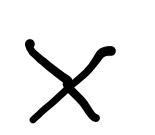mult: (25, 39, 116, 124)
